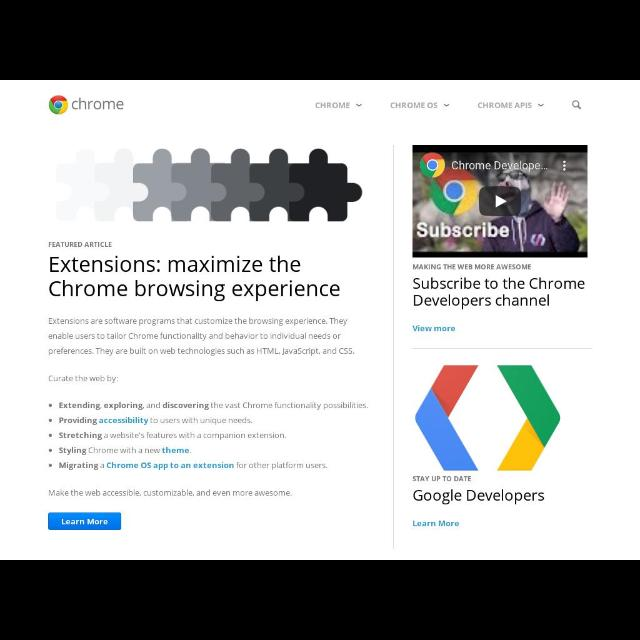icon: (572, 100, 582, 110), (444, 103, 451, 107), (356, 103, 362, 107), (538, 103, 544, 107)
image: (412, 144, 588, 258), (95, 148, 363, 222), (416, 365, 560, 471), (48, 95, 124, 115)
multitab: (316, 102, 544, 110)
spinner: (478, 102, 544, 110), (316, 102, 362, 110), (390, 102, 450, 108)
text: (49, 402, 368, 470), (49, 256, 340, 302), (48, 318, 354, 356), (413, 278, 585, 310), (414, 490, 544, 506), (48, 489, 292, 496), (412, 264, 532, 270), (49, 376, 119, 384), (478, 102, 532, 110), (49, 242, 113, 248), (62, 518, 108, 526), (412, 476, 472, 482), (412, 324, 456, 332), (390, 102, 438, 108), (413, 521, 459, 527), (316, 102, 350, 108)
textbutton: (48, 514, 122, 530)
